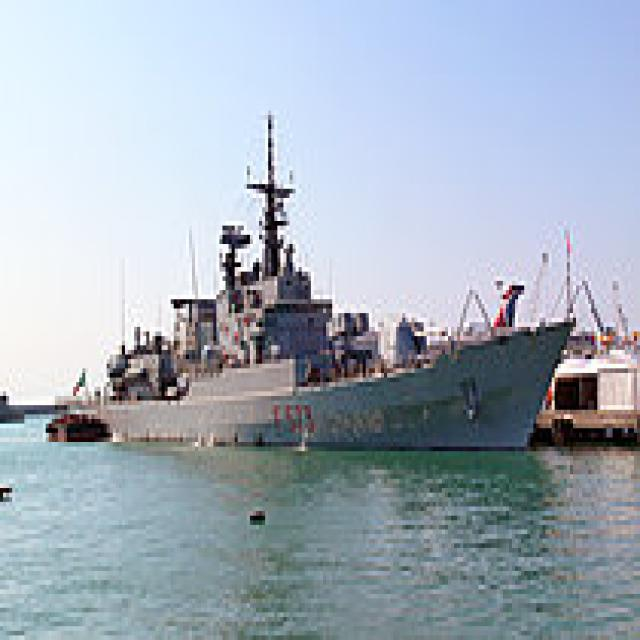Warship: (82, 106, 576, 447)
